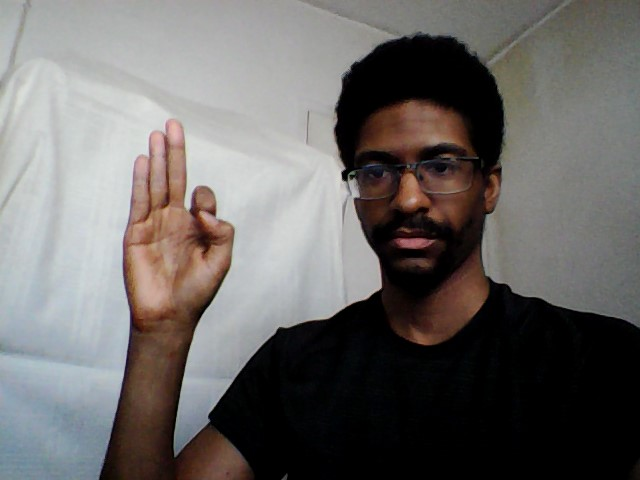f: (116, 110, 239, 337)
